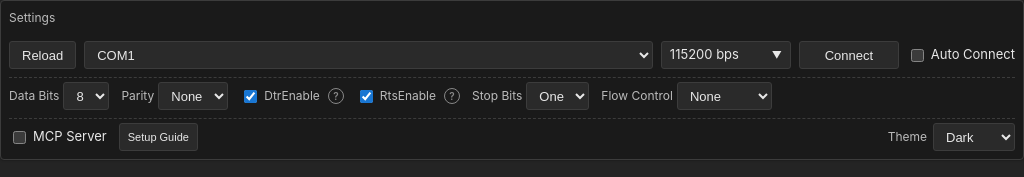
it: SettingsPanel - MCP Server › shows the port reported by the backend, not the hardcoded default
Click the checkbox labelled "MCP Server". click: (20, 137)
box: [13, 130, 26, 144]
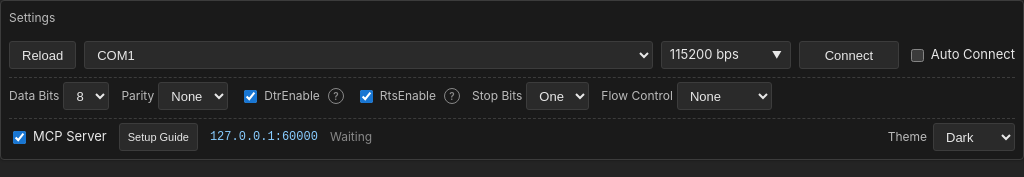
Expected: the text "127.0.0.1:60000" is shown, [210, 128, 318, 146]
